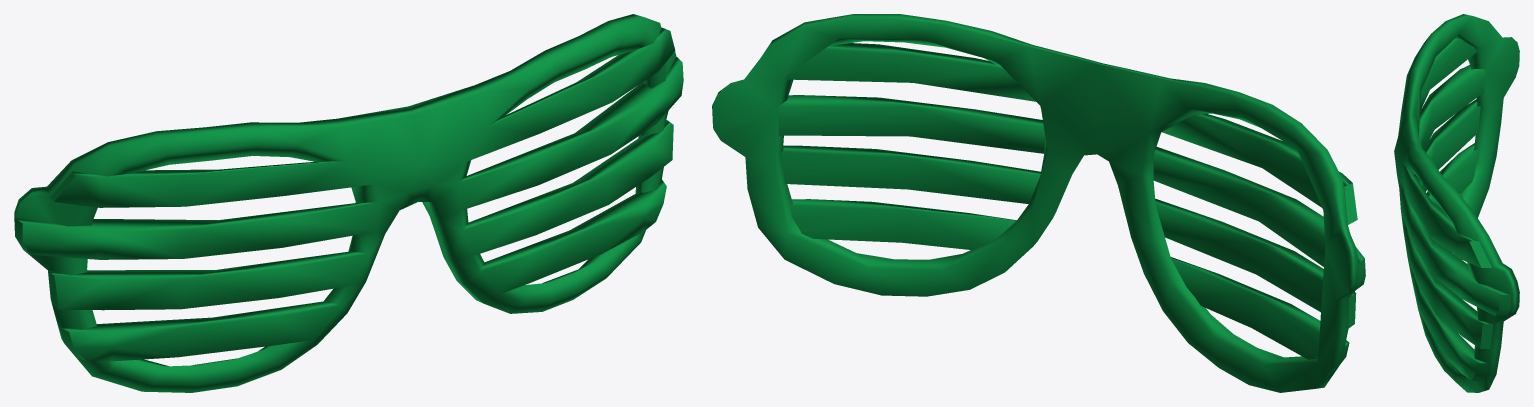
Rendered from AccessoryGlassBlind2.glb.
The picture shows the model from 3 angles, left to right: view 1: azimuth 30°, elevation 25°; view 2: azimuth 150°, elevation 25°; view 3: azimuth 270°, elevation 25°; orthographic projection. The views are drawn at different scales.
Visible parts, largest first — view 1: Accessory__mAccessory; view 2: Accessory__mAccessory; view 3: Accessory__mAccessory.
Boxes of the visible parts, box(x1,y1,x2,y2) form: Accessory__mAccessory: box(14, 14, 683, 392); Accessory__mAccessory: box(712, 14, 1365, 392); Accessory__mAccessory: box(1394, 14, 1519, 392).
Size of the model in its own units: 6.64 by 2.6 by 1.44.
Materials: 1 (1 with a texture image).
